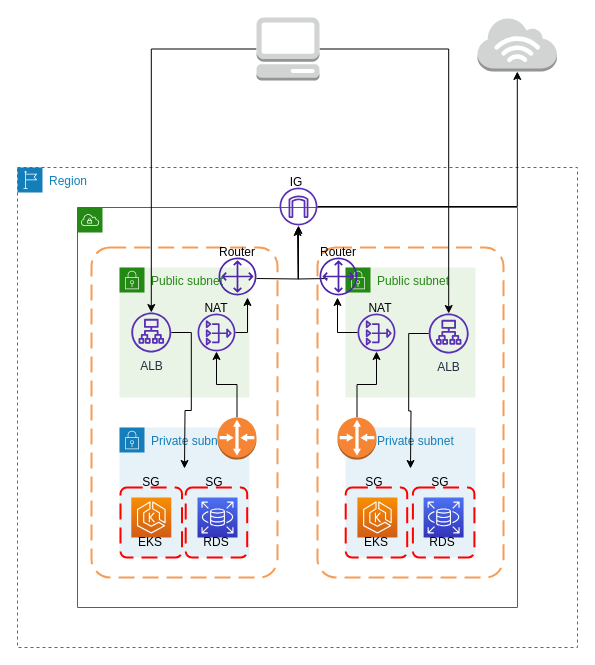
Some shapes in this 595 by 665 pixel diagram are drawn without their labels. Each missing label, with the box of its shape:
Client: (256, 16, 320, 80)
Internet: (476, 16, 557, 72)
VPC: (76, 206, 518, 608)
